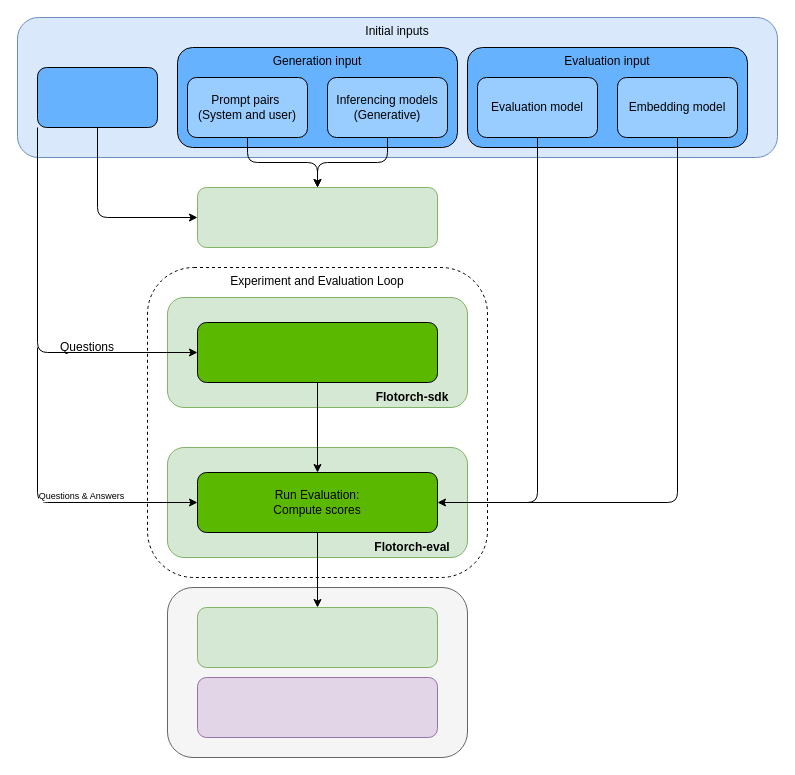
The diagram is 795 pixels wide and 775 high, and some of its shapes have lost their labels. The shapes that lost their labels are listed below. From the top down, each one's centre as x and y in pixels, then its label:
At (97,97): "Ground Truth (QA)".
At (317,217): "Generate Combinations (Prompt pair x inferencing models)".
At (317,352): "Run Experiment: Generate Answers".
At (317,637): "Aggregate Evaluation scores".
At (317,707): "Plot and Identify top performer".
